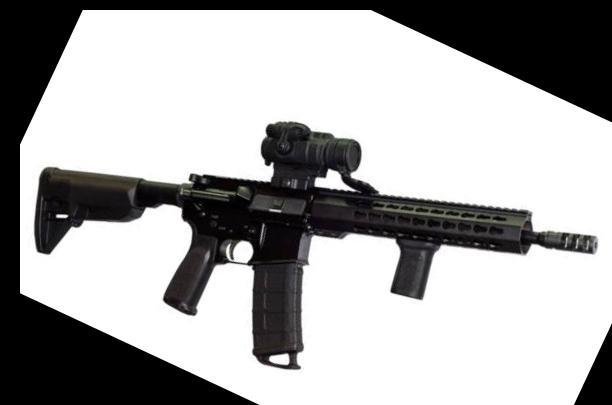larga: (35, 121, 599, 371)
